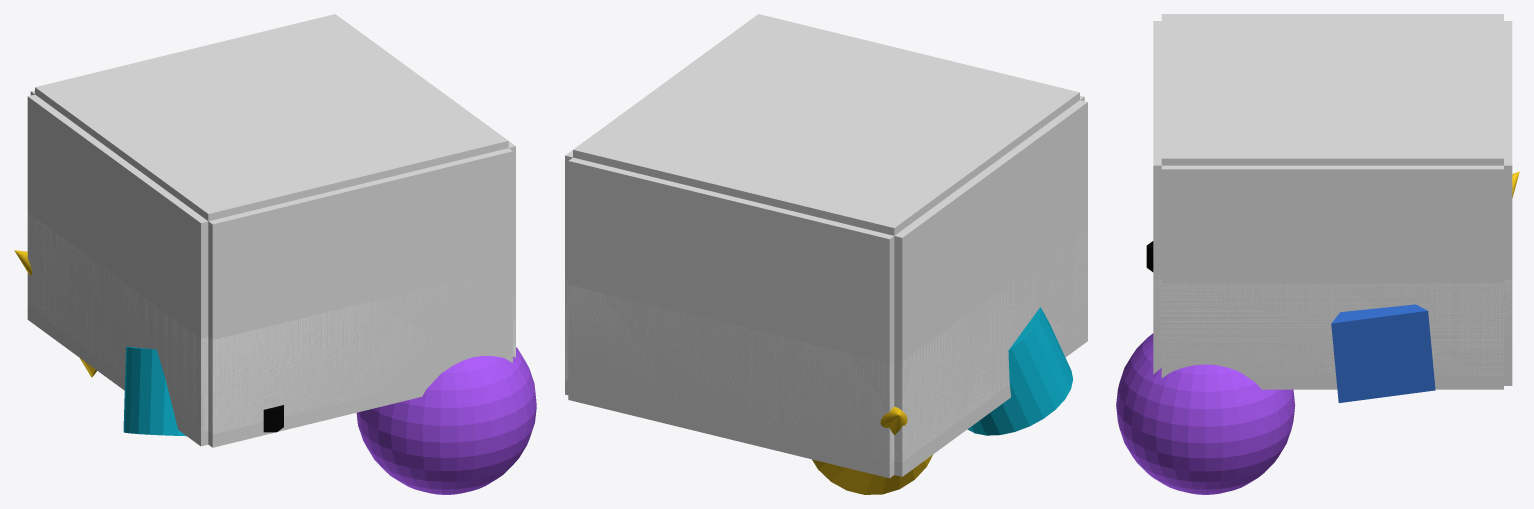
Rendered from arena.glb.
3 views of the same model, side by side, from view 1: azimuth 30°, elevation 25°; view 2: azimuth 150°, elevation 25°; view 3: azimuth 270°, elevation 25° (orthographic). The views are drawn at different scales.
Parts seen in each view (by area): view 1: col_wall_south, col_ceiling, col_wall_west, colball_dome, wall_south, wall_west, colhull_drum, col_wall_east; view 2: col_wall_north, col_ceiling, col_wall_west, wall_north, wall_west, colhull_drum, colhull_cone, col_wall_east; view 3: col_wall_east, col_ceiling, colball_dome, wall_east, colhull_crystal, col_wall_north, col_wall_south.
Boxes of the visible parts, bbox=[...] form: col_wall_south: bbox=[208, 148, 512, 447]; col_ceiling: bbox=[35, 14, 508, 221]; col_wall_west: bbox=[27, 94, 208, 446]; colball_dome: bbox=[356, 347, 536, 494]; wall_south: bbox=[208, 269, 510, 434]; wall_west: bbox=[27, 212, 208, 431]; colhull_drum: bbox=[123, 346, 186, 436]; col_wall_east: bbox=[408, 67, 515, 357]; col_wall_north: bbox=[568, 157, 894, 478]; col_ceiling: bbox=[573, 14, 1079, 235]; col_wall_west: bbox=[894, 100, 1087, 476]; wall_north: bbox=[568, 285, 894, 463]; wall_west: bbox=[894, 226, 1087, 461]; colhull_drum: bbox=[967, 307, 1073, 435]; colhull_cone: bbox=[812, 406, 933, 494]; col_wall_east: bbox=[565, 53, 704, 395]; col_wall_east: bbox=[1161, 165, 1503, 389]; col_ceiling: bbox=[1161, 14, 1503, 165]; colball_dome: bbox=[1116, 333, 1295, 494]; wall_east: bbox=[1161, 283, 1503, 376]; colhull_crystal: bbox=[1331, 304, 1435, 402]; col_wall_north: bbox=[1504, 21, 1512, 385]; col_wall_south: bbox=[1153, 21, 1161, 374].
Bounding box in the file's own units: 49.73 × 44.84 × 47.22.
